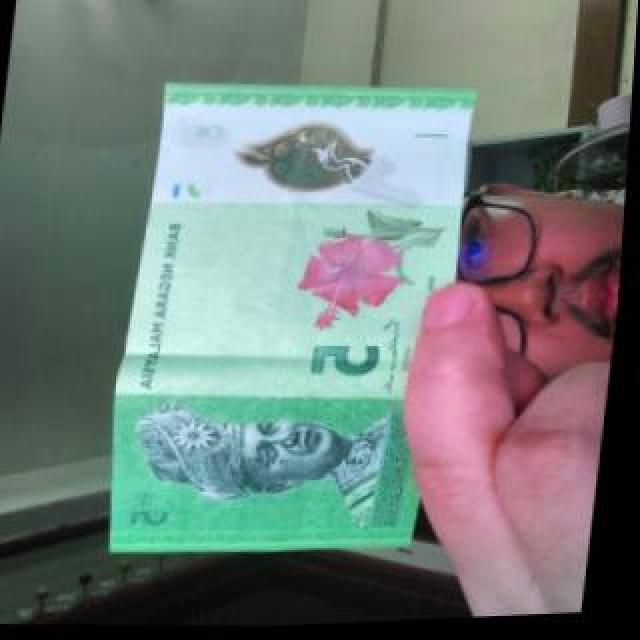5 Ringgit: (106, 72, 483, 566)
